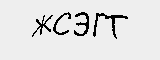Г: (94, 12, 107, 39)
Ж: (32, 13, 52, 38)
С: (51, 12, 72, 36)
Т: (105, 12, 132, 39)
Э: (73, 11, 93, 37)
